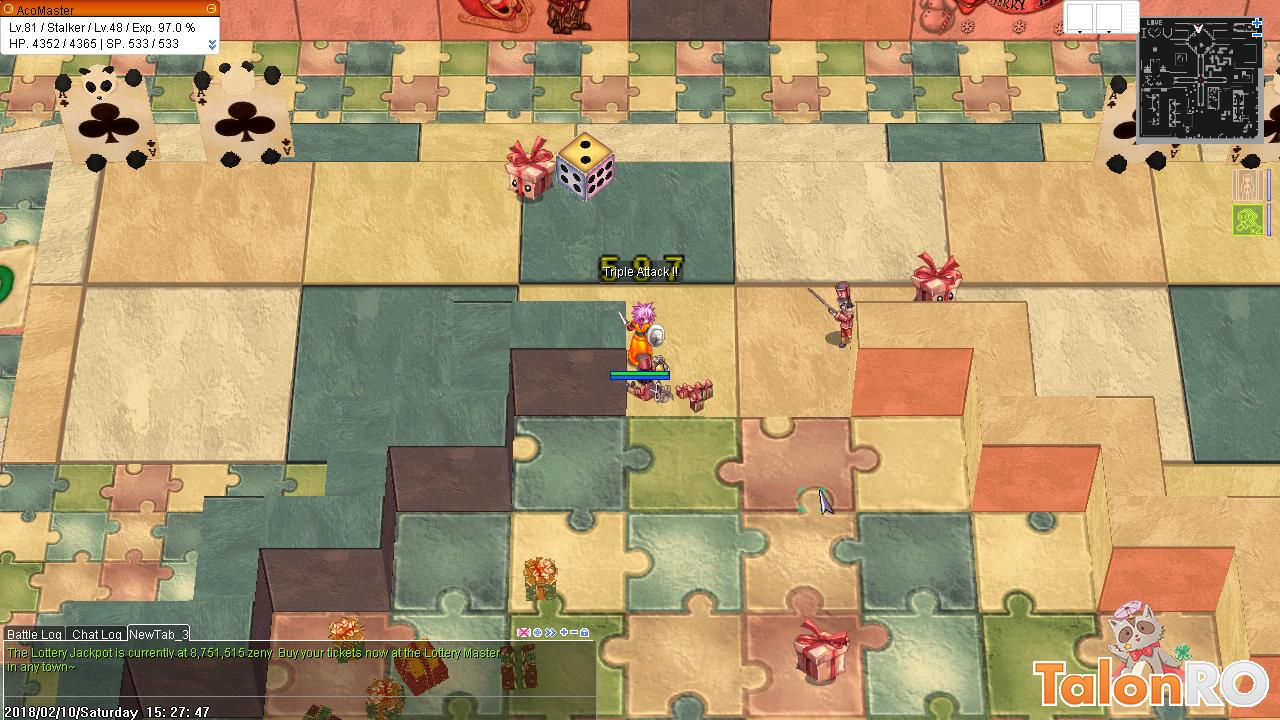mob: (798, 276, 870, 357)
myst_case: (498, 135, 566, 210), (792, 623, 851, 691), (907, 249, 966, 307)
